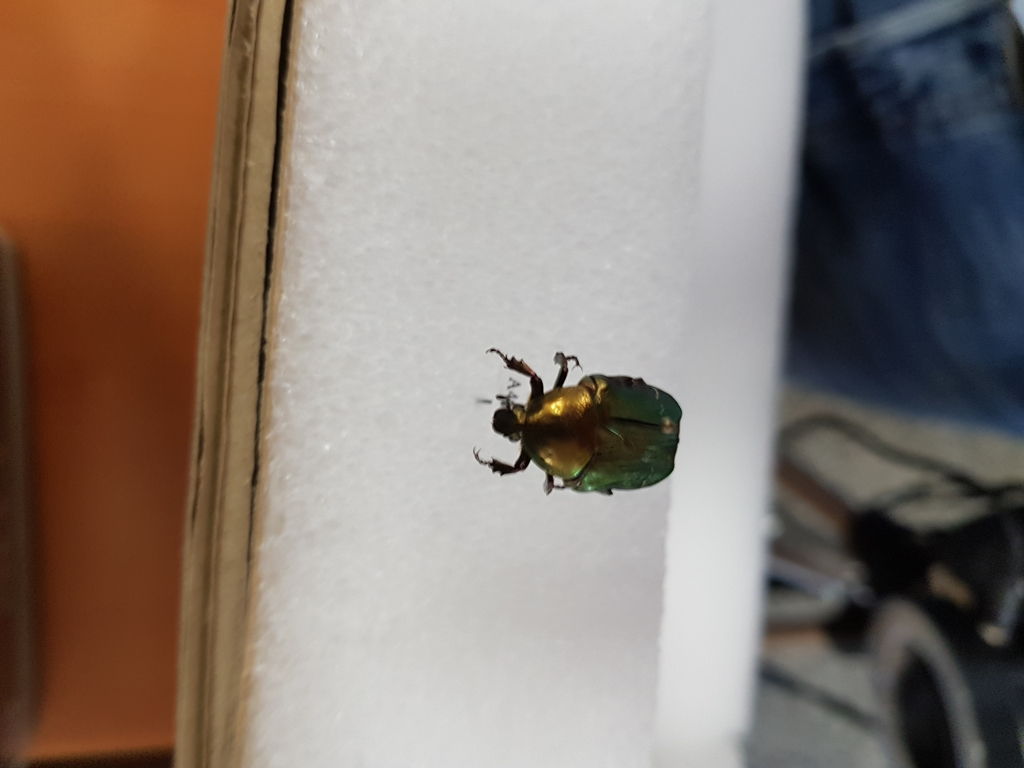Cetonia_kemali: (463, 337, 692, 505)
